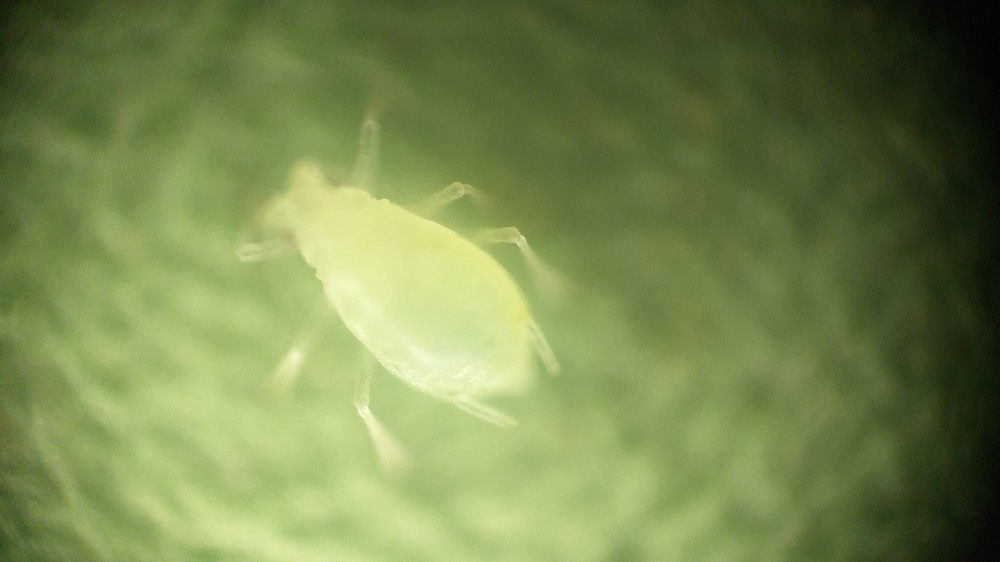Pulgon: (205, 110, 627, 499)
